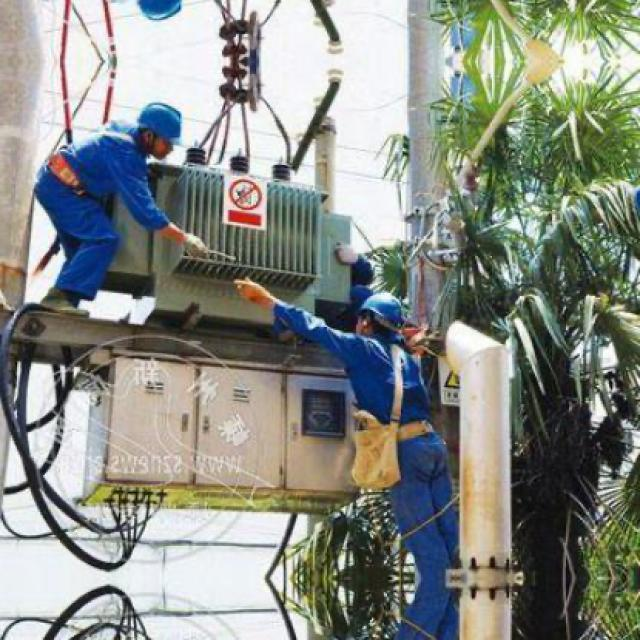con casco: (126, 91, 206, 165), (356, 265, 408, 356)
